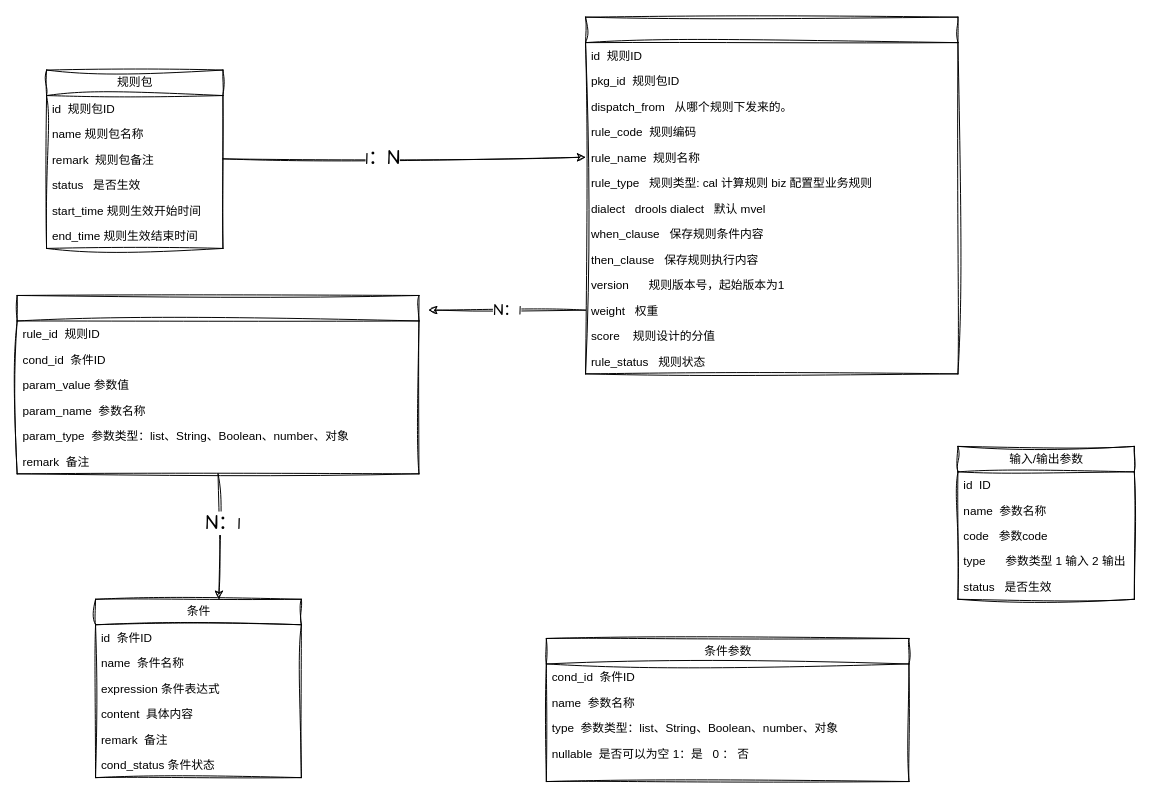
The diagram is 1152 pixels wide and 802 high, and some of its shapes have lost their labels. The box of each missing label's shape, as (x1, y1, x2, y2) in pixels:
规则: (585, 16, 958, 374)
规则条件关联表: (16, 294, 419, 474)
